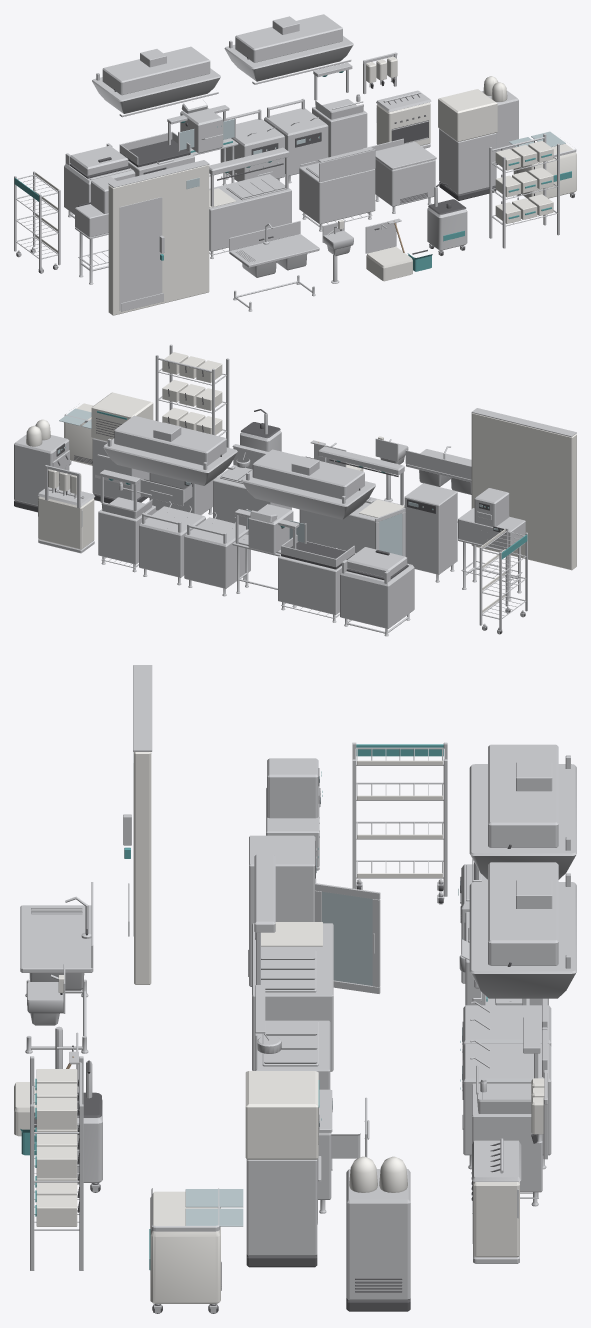
Rendered from fast-food-and-drive-thru-qsr-kitchen-line-c8785a03__16232.glb.
3 renders of one model, top to bottom at view 1: azimuth 30°, elevation 25°; view 2: azimuth 150°, elevation 25°; view 3: azimuth 270°, elevation 25°, orthographic. The views are drawn at different scales.
Parts seen in each view (by area): view 1: 015-walk-in-freezer-module/0, 008-line-extraction-canopy/0, 009-line-extraction-canopy/0, 010-assembly-table-hot-rail/0, 011-breading-station/0, 015-walk-in-freezer-module/freezer-door, 018-double-wash-sink/0, 012-prep-fridge-drawer-open/0, 022-syrup-rack-back-room/1, 016-ice-machine/1, 006-fry-dump-station/0, 005-twin-basket-fryer/0 (+25 smaller); view 2: 015-walk-in-freezer-module/0, 008-line-extraction-canopy/0, 009-line-extraction-canopy/0, 013-holding-cabinet-door-open/0, 000-clamshell-grill/0, 001-flat-griddle/0, 004-twin-basket-fryer/0, 010-assembly-table-hot-rail/0, 006-fry-dump-station/0, 022-syrup-rack-back-room/1, 005-twin-basket-fryer/0, 024-shake-and-soft-serve-machine/1 (+26 smaller); view 3: 009-line-extraction-canopy/0, 008-line-extraction-canopy/0, 010-assembly-table-hot-rail/0, 024-shake-and-soft-serve-machine/1, 016-ice-machine/1, 016-ice-machine/3, 022-syrup-rack-back-room/1, 023-bagged-ice-bin/2, 018-double-wash-sink/0, 013-holding-cabinet-door-open/cabinet-door (×2), 006-fry-dump-station/0, 013-holding-cabinet-door-open/0 (+25 smaller).
Boxes of the visible parts, <box> form: 015-walk-in-freezer-module/0: <box>108,165,209,315</box>; 008-line-extraction-canopy/0: <box>92,46,220,117</box>; 009-line-extraction-canopy/0: <box>224,14,353,84</box>; 010-assembly-table-hot-rail/0: <box>209,147,291,258</box>; 011-breading-station/0: <box>299,147,375,231</box>; 015-walk-in-freezer-module/freezer-door: <box>119,197,162,310</box>; 018-double-wash-sink/0: <box>229,221,319,311</box>; 012-prep-fridge-drawer-open/0: <box>375,141,436,213</box>; 022-syrup-rack-back-room/1: <box>495,141,553,223</box>; 016-ice-machine/1: <box>439,128,496,194</box>; 006-fry-dump-station/0: <box>312,62,367,157</box>; 005-twin-basket-fryer/0: <box>264,98,328,183</box>; 015-walk-in-freezer-module/0: <box>471,413,576,570</box>; 008-line-extraction-canopy/0: <box>241,449,375,519</box>; 009-line-extraction-canopy/0: <box>103,415,237,485</box>; 013-holding-cabinet-door-open/0: <box>404,483,457,582</box>; 000-clamshell-grill/0: <box>340,559,414,636</box>; 001-flat-griddle/0: <box>278,534,355,622</box>; 004-twin-basket-fryer/0: <box>184,512,250,596</box>; 010-assembly-table-hot-rail/0: <box>299,446,404,553</box>; 006-fry-dump-station/0: <box>98,469,155,572</box>; 022-syrup-rack-back-room/1: <box>162,352,222,435</box>; 005-twin-basket-fryer/0: <box>139,501,205,585</box>; 024-shake-and-soft-serve-machine/1: <box>14,434,69,505</box>; 009-line-extraction-canopy/0: <box>469,862,576,1001</box>; 008-line-extraction-canopy/0: <box>469,744,576,882</box>; 010-assembly-table-hot-rail/0: <box>252,854,333,1071</box>; 024-shake-and-soft-serve-machine/1: <box>346,1169,410,1300</box>; 016-ice-machine/1: <box>246,1159,317,1255</box>; 016-ice-machine/3: <box>245,1071,318,1159</box>; 022-syrup-rack-back-room/1: <box>36,1069,77,1226</box>; 023-bagged-ice-bin/2: <box>150,1191,220,1303</box>; 018-double-wash-sink/0: <box>20,882,93,1053</box>; 013-holding-cabinet-door-open/cabinet-door (×2): <box>315,883,380,993</box>; 006-fry-dump-station/0: <box>472,1017,542,1206</box>; 013-holding-cabinet-door-open/0: <box>249,835,316,986</box>.
Bounding box in the file's own units: 9.45 × 2.71 × 5.25.
